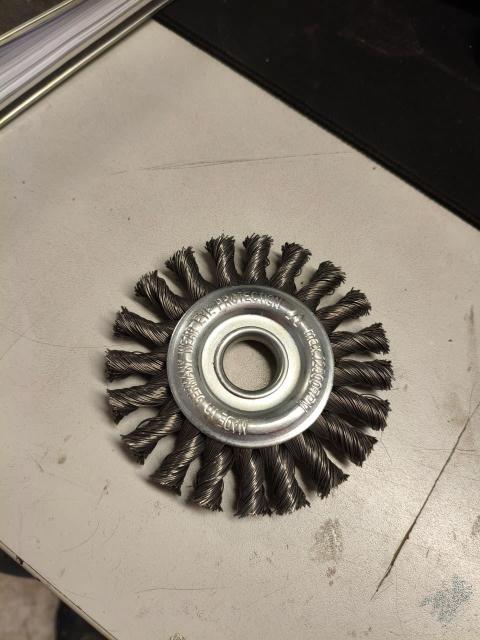Metal: (107, 223, 397, 517)
